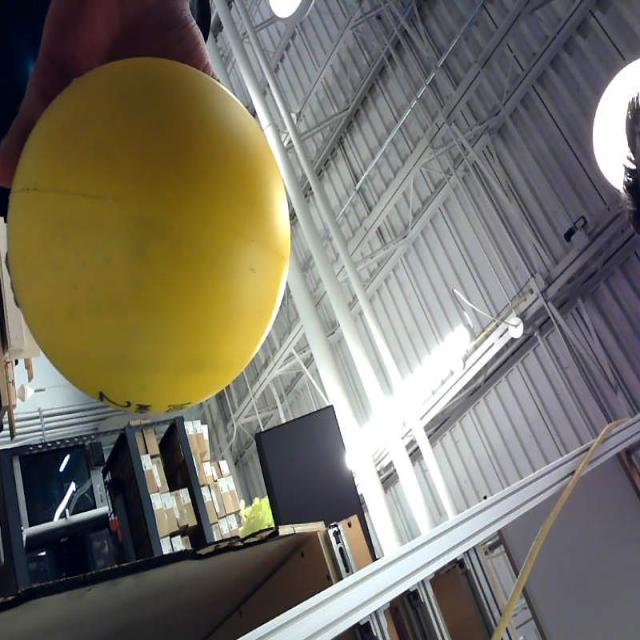Fuel: (5, 54, 292, 416)
